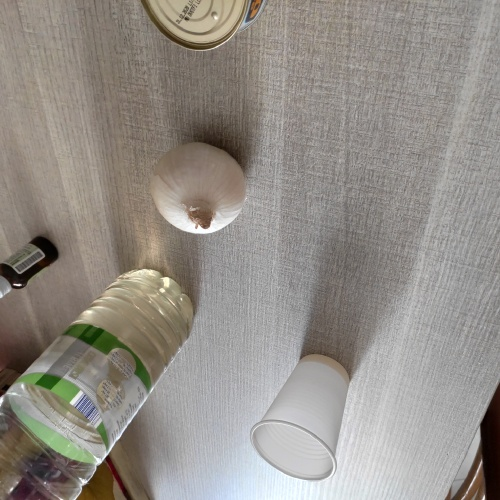cipolla: (145, 141, 247, 243)
